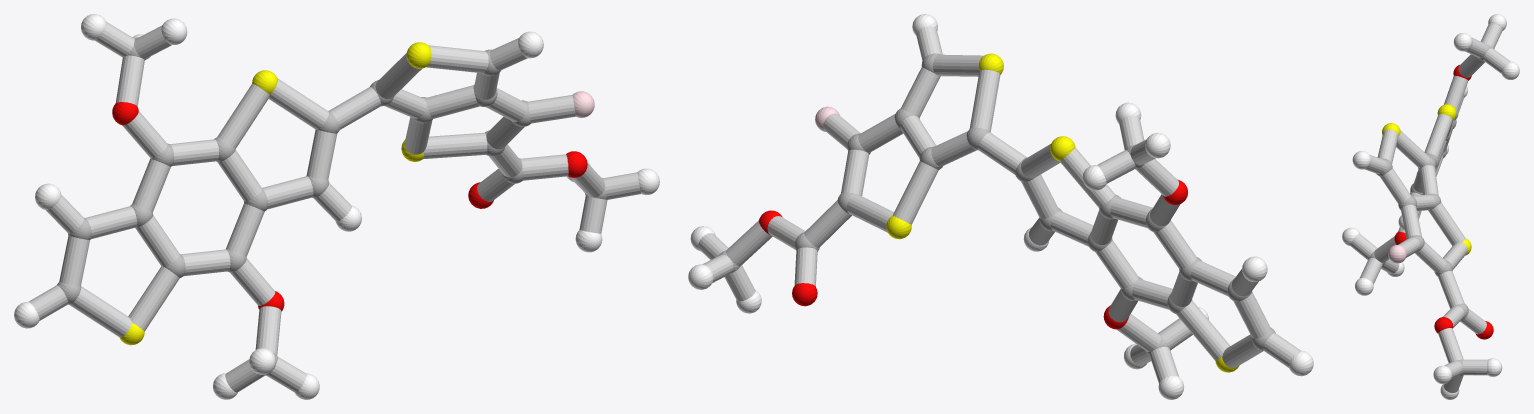
Rendered from Dimethoxy_Benzodithiophene_Phi_25_Theta_230_Methylcarbonyl_3_Fluoro_Thienothiophene.glb.
The picture shows the model from 3 angles, left to right: view 1: azimuth 30°, elevation 25°; view 2: azimuth 150°, elevation 25°; view 3: azimuth 270°, elevation 25°; orthographic projection. The views are drawn at different scales.
Visible parts, largest first — view 1: grp15205, grp8689, grp1, grp7241, grp13395; view 2: grp15205, grp8689, grp1, grp7241, grp13395; view 3: grp15205, grp8689, grp1, grp13395, grp7241, grp14843.
Boxes of the visible parts, x1,y1,x2,y2 form: grp15205: (28,22,640,392); grp8689: (14,14,659,399); grp1: (57,38,606,375); grp7241: (119,42,431,345); grp13395: (112,102,587,311); grp15205: (698,26,1300,382); grp8689: (688,14,1313,399); grp1: (718,53,1275,355); grp7241: (886,53,1239,372); grp13395: (759,180,1187,329); grp15205: (1350,23,1510,392); grp8689: (1342,14,1519,399); grp1: (1369,44,1492,376); grp13395: (1394,65,1493,339); grp7241: (1382,104,1471,255); grp14843: (1388,245,1406,263).
Bounding box in the file's own units: 16.66 × 8.5 × 5.68.
